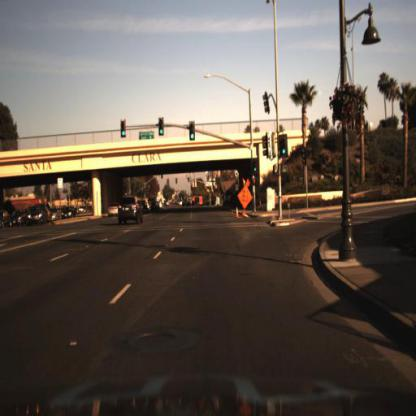car: (117, 193, 144, 230), (27, 202, 52, 227), (10, 209, 32, 230), (184, 193, 205, 209), (63, 201, 77, 224), (63, 202, 80, 220), (106, 200, 122, 219)
trafficLight-Green: (279, 130, 291, 164), (278, 132, 290, 159), (188, 119, 200, 144), (252, 153, 261, 177), (189, 121, 198, 144), (120, 117, 128, 140), (158, 117, 166, 139), (120, 120, 128, 141), (158, 116, 166, 134), (253, 158, 261, 176)
